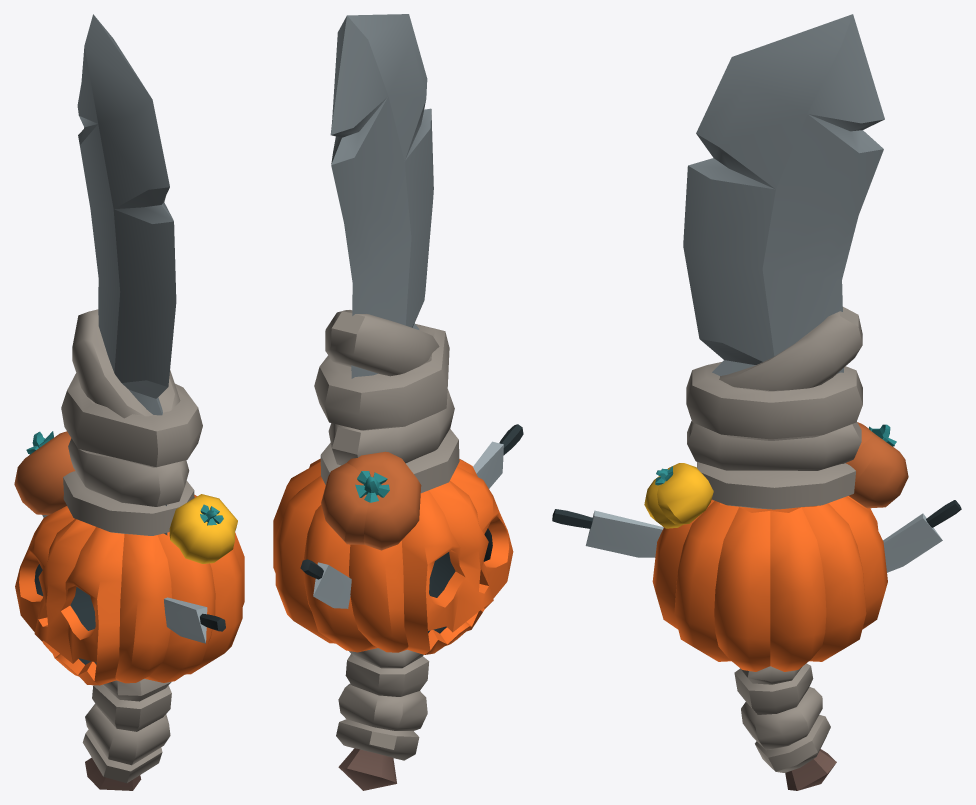
The model's file is pumpkin_sword.gltf.glb.
3 renders of one model, left to right at view 1: azimuth 30°, elevation 25°; view 2: azimuth 150°, elevation 25°; view 3: azimuth 270°, elevation 25°, orthographic. The views are drawn at different scales.
Visible parts, largest first — view 1: pumpkin_sword; view 2: pumpkin_sword; view 3: pumpkin_sword.
Part boxes in pixels (<box>): pumpkin_sword: <box>14,14,244,790</box>; pumpkin_sword: <box>273,14,523,790</box>; pumpkin_sword: <box>552,14,961,790</box>.
Bounding box in the file's own units: 0.5373 × 2.05 × 0.987.
